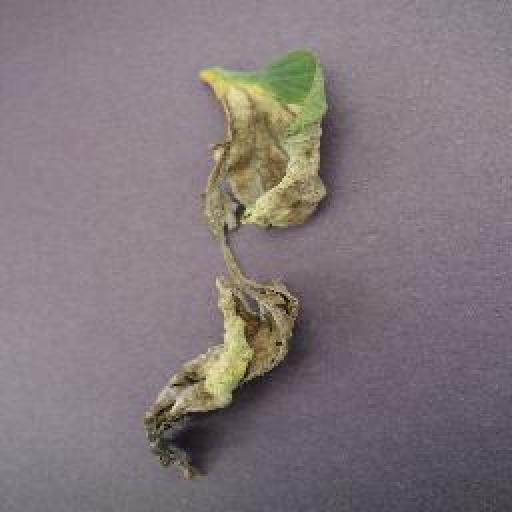Late Blight: (147, 48, 337, 475)
